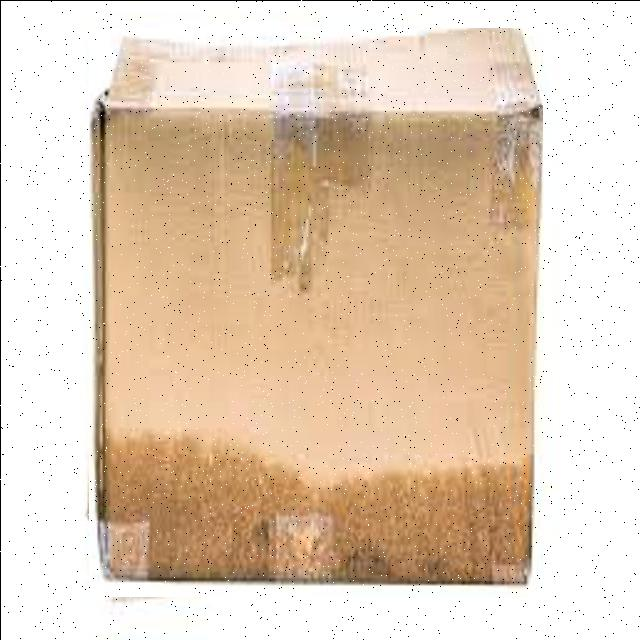defect: (88, 27, 542, 596)
